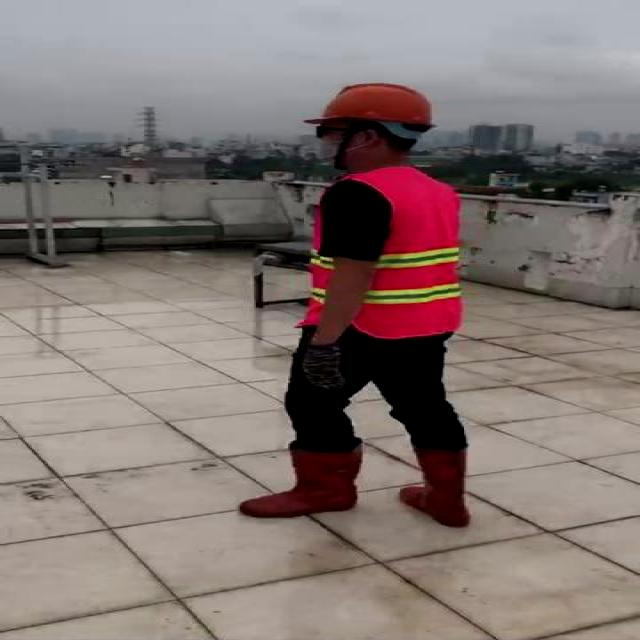boots: (236, 443, 368, 519), (398, 447, 476, 528)
face_mask: (304, 124, 357, 171)
hand_glove: (304, 345, 348, 390)
head_helmet: (306, 84, 441, 130)
person: (218, 77, 490, 532)
vest: (304, 171, 466, 338)
